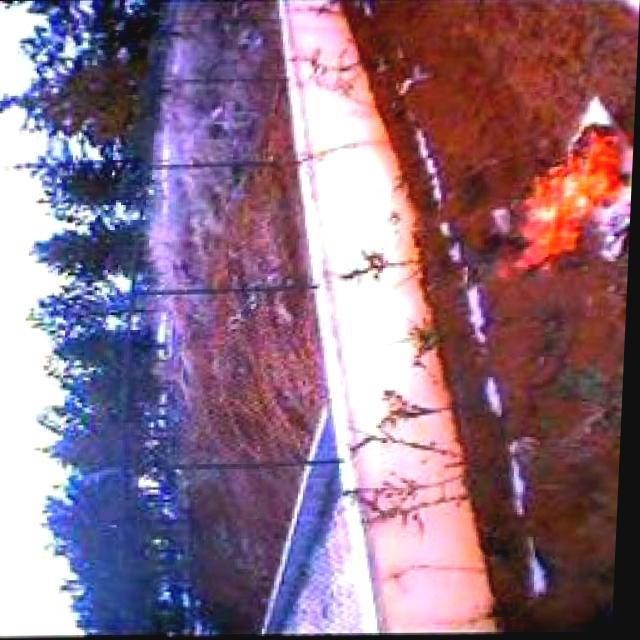Fire: (486, 121, 636, 288)
